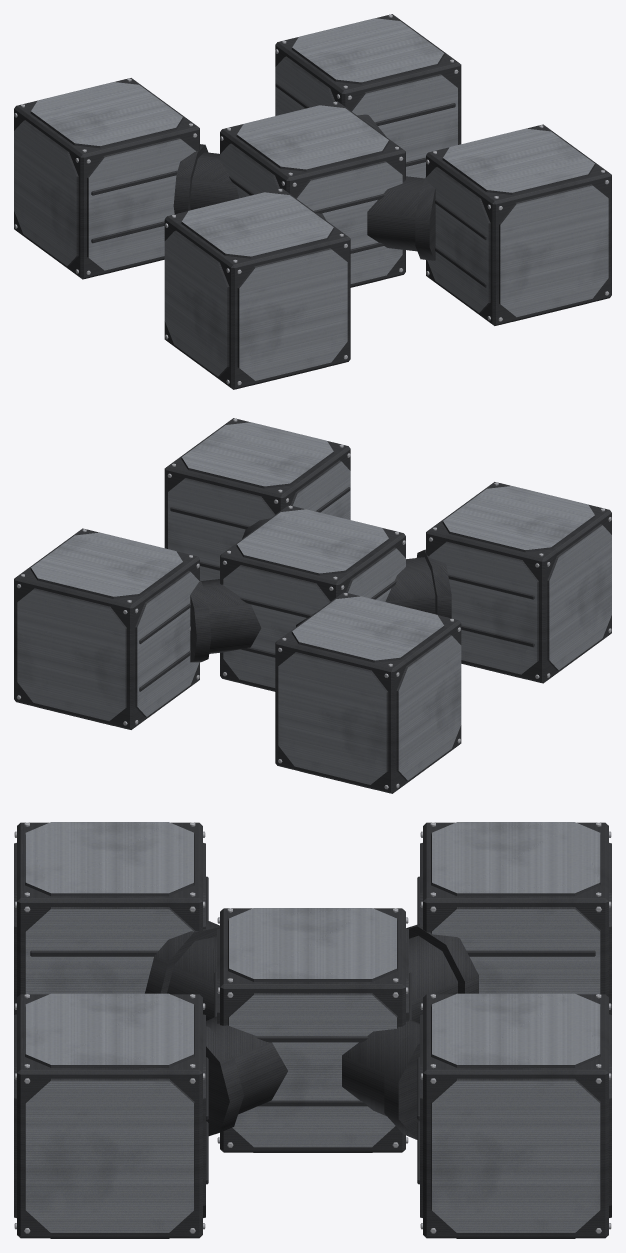
The model's file is R4C_STRUT_CROSS.glb.
3 renders of one model, top to bottom at view 1: azimuth 30°, elevation 25°; view 2: azimuth 150°, elevation 25°; view 3: azimuth 270°, elevation 25°, orthographic. The views are drawn at different scales.
Parts seen in each view (by area): view 1: R4C_STRUT_CROSS; view 2: R4C_STRUT_CROSS; view 3: R4C_STRUT_CROSS.
Boxes of the visible parts, x1,y1,x2,y2 form: R4C_STRUT_CROSS: [14, 14, 611, 389]; R4C_STRUT_CROSS: [14, 418, 611, 793]; R4C_STRUT_CROSS: [14, 822, 611, 1238].
Bounding box in the file's own units: 1.62 × 0.52 × 1.62.
4 materials, 4 textured.
